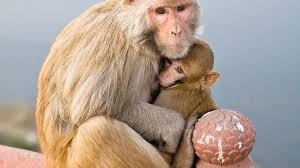monkey: (37, 1, 257, 155)
